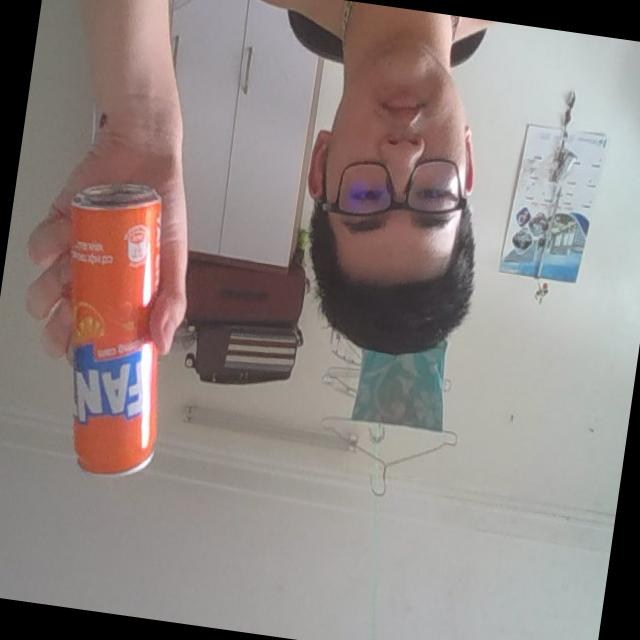Fanta: (31, 174, 192, 492)
